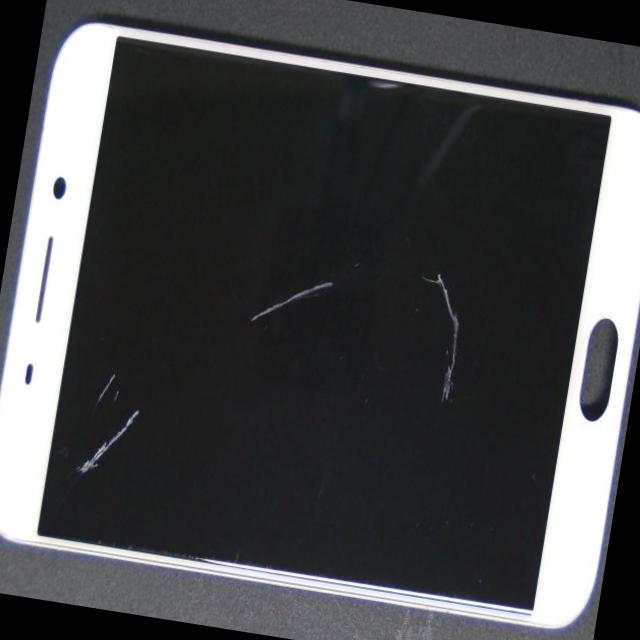Scratches: (231, 259, 343, 334), (418, 259, 467, 412), (71, 406, 155, 492), (77, 364, 130, 415)
